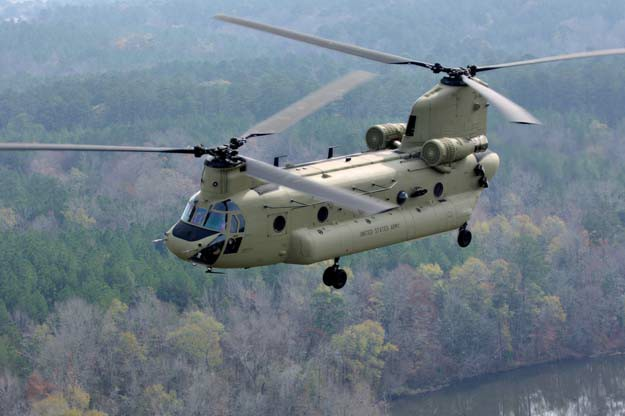chinook: (116, 38, 560, 290)
